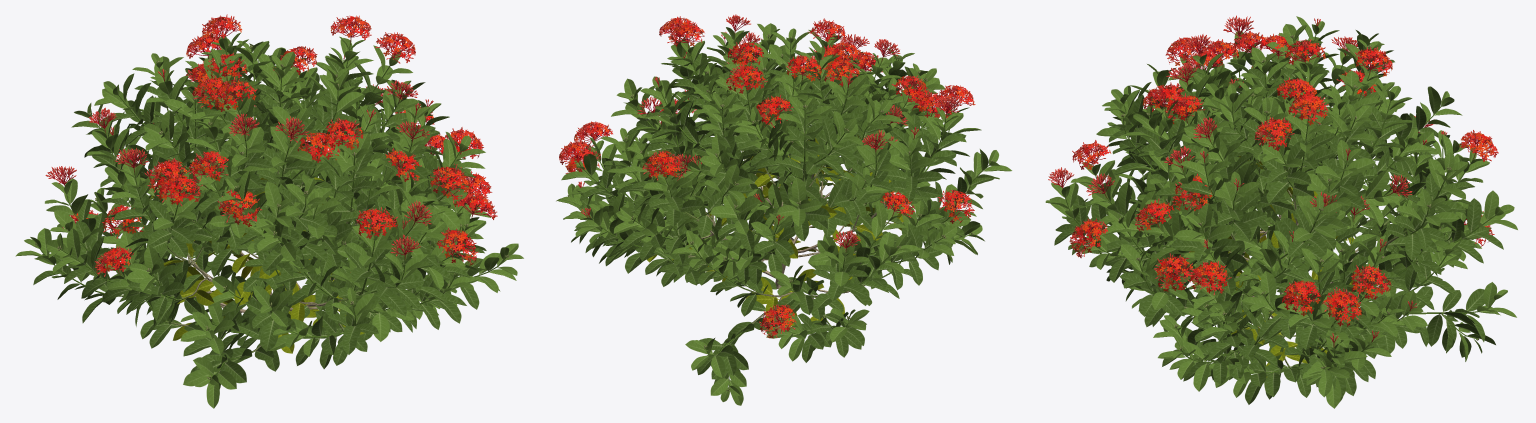
The model's file is realistic_hd_chinese_jungle_geranium_310.glb.
3 renders of one model, left to right at view 1: azimuth 30°, elevation 25°; view 2: azimuth 150°, elevation 25°; view 3: azimuth 270°, elevation 25°, orthographic. The views are drawn at different scales.
Visible parts, largest first — view 1: Ixora_chinensis_red_HD; view 2: Ixora_chinensis_red_HD; view 3: Ixora_chinensis_red_HD.
Part boxes in pixels (<box>): Ixora_chinensis_red_HD: <box>15,14,523,408</box>; Ixora_chinensis_red_HD: <box>556,14,1011,405</box>; Ixora_chinensis_red_HD: <box>1045,15,1517,408</box>.
Bounding box in the file's own units: 1.69 × 1.24 × 1.62.
Materials: 14 (14 with a texture image).
